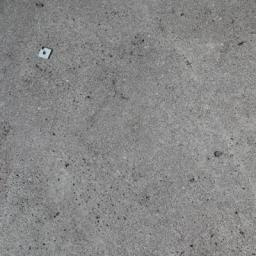FOD: (38, 46, 55, 64)
